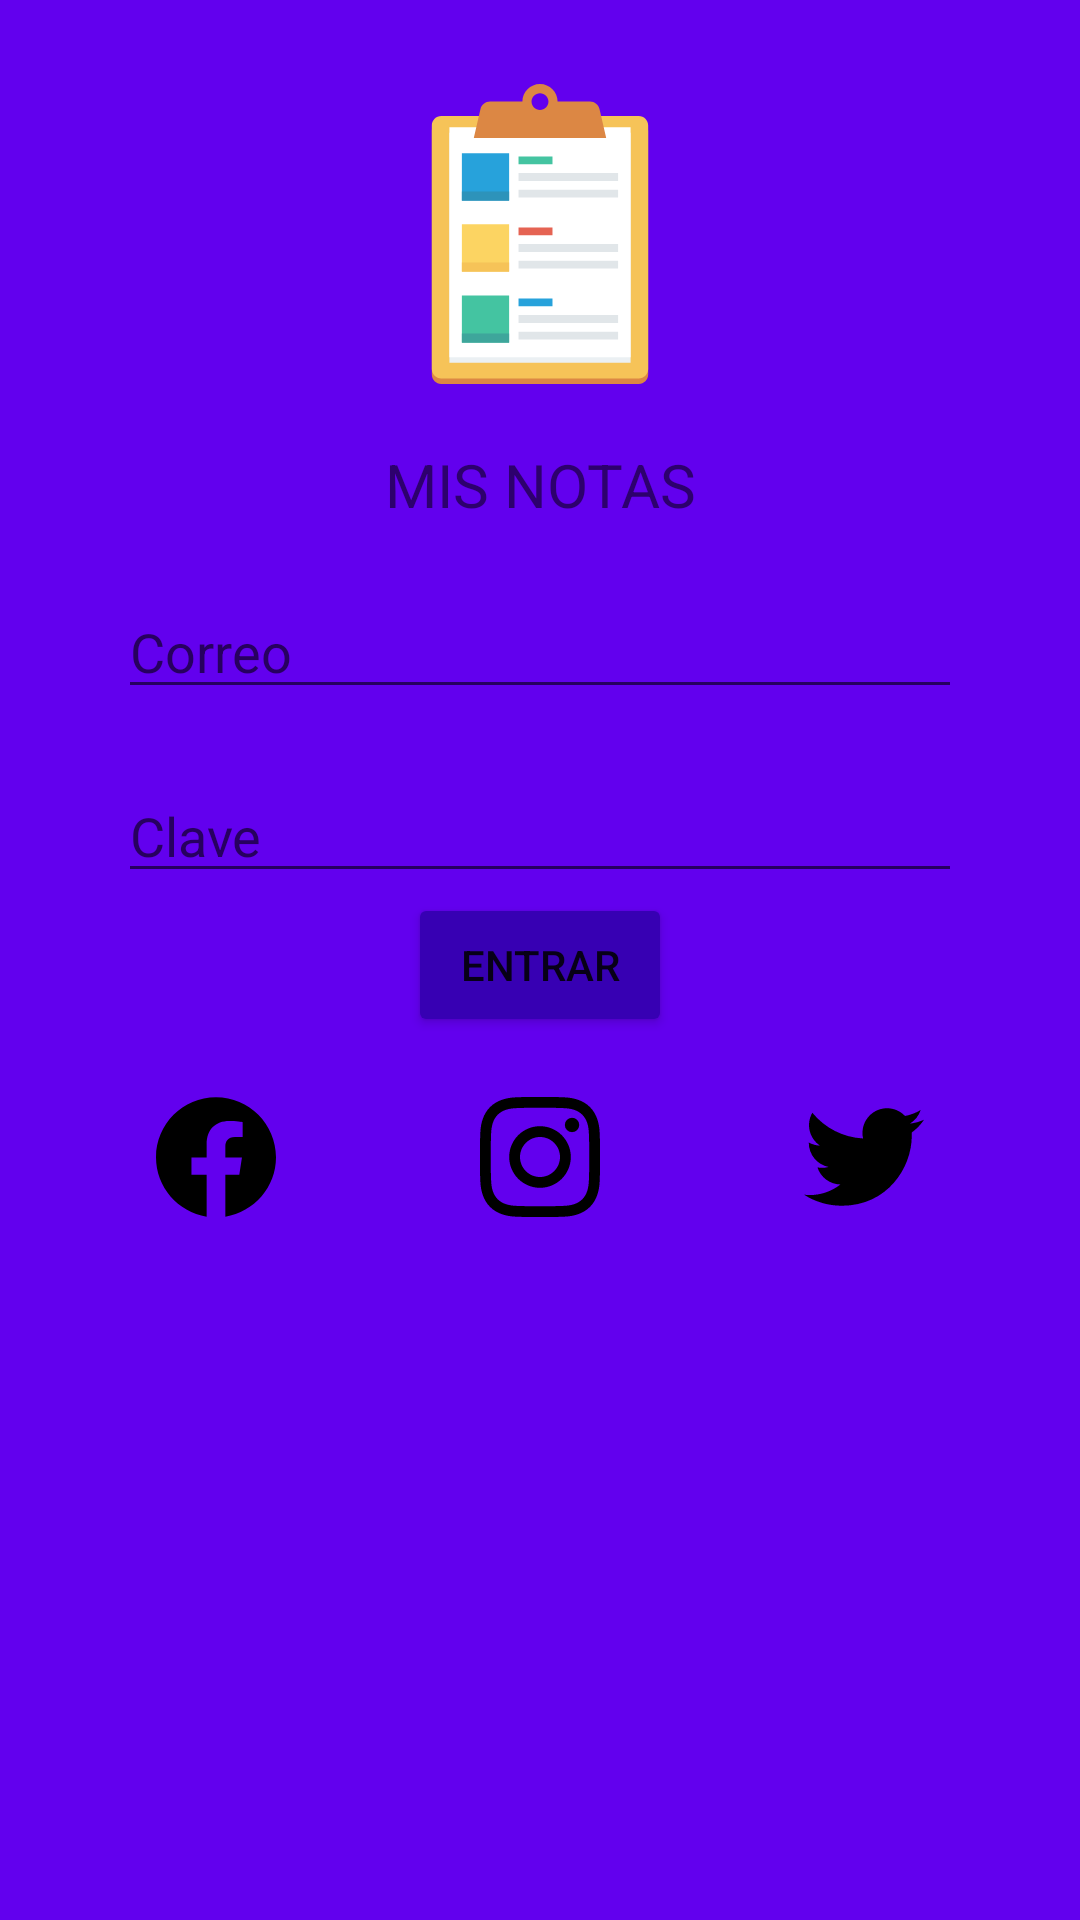

Screen size 1080w x 1920h. Icon name, then its center in pixels as (x,y):
checklist: (540,234)
